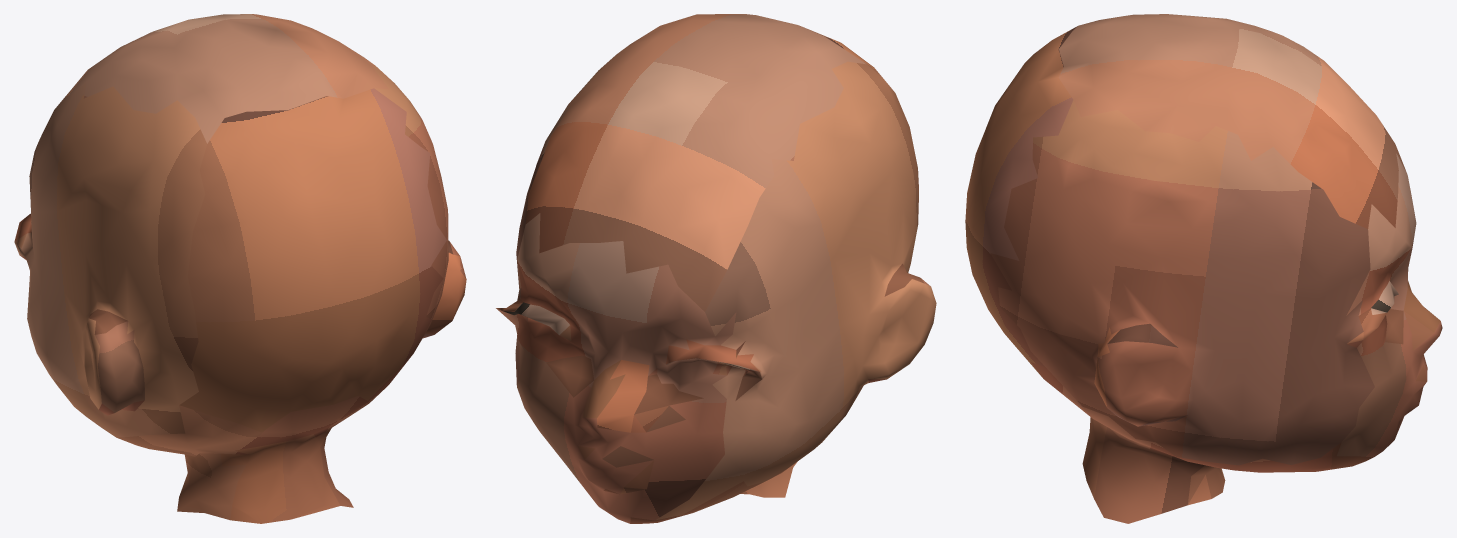
File: BaddieFemale_Head.obj
3 views of the same model, side by side, from view 1: azimuth 30°, elevation 25°; view 2: azimuth 150°, elevation 25°; view 3: azimuth 270°, elevation 25° (orthographic). The views are drawn at different scales.
Parts seen in each view (by area): view 1: Baddiefemale1; view 2: Baddiefemale1; view 3: Baddiefemale1.
Boxes of the visible parts, x1,y1,x2,y2 form: Baddiefemale1: [14, 14, 466, 523]; Baddiefemale1: [496, 14, 936, 523]; Baddiefemale1: [965, 14, 1442, 523].
Bounding box in the file's own units: 1.15 × 1.37 × 1.32.
Materials: 1 (1 with a texture image).
